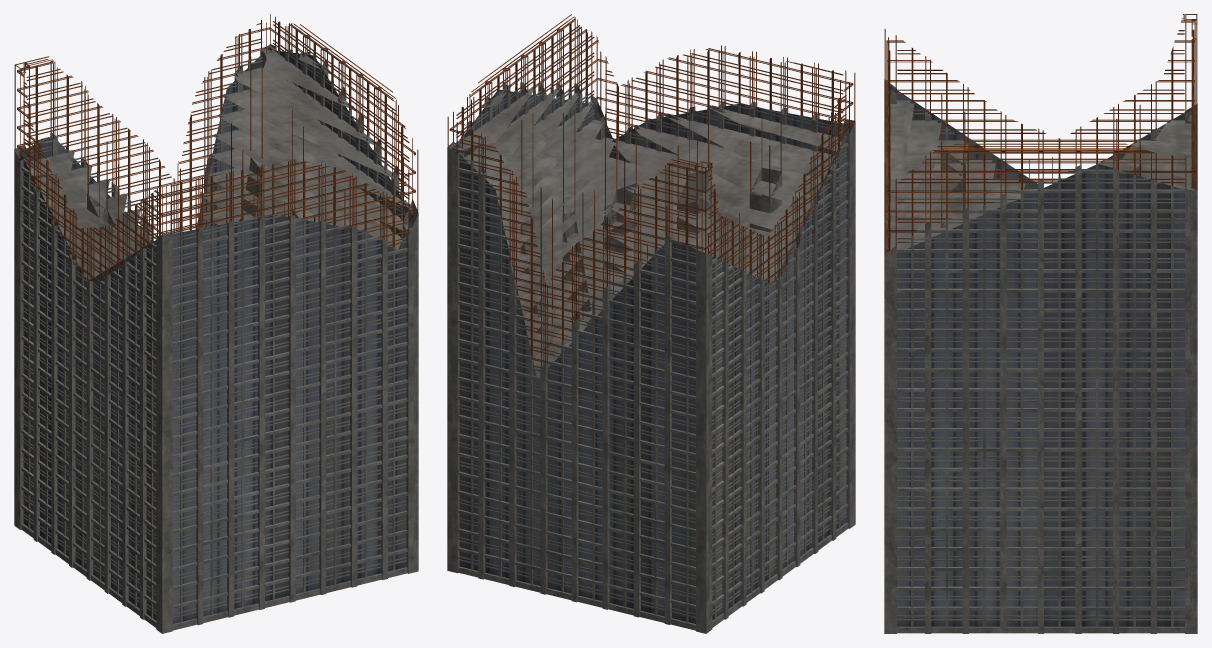
File: building-01.glb
3 renders of one model, left to right at view 1: azimuth 30°, elevation 25°; view 2: azimuth 150°, elevation 25°; view 3: azimuth 270°, elevation 25°, orthographic. The views are drawn at different scales.
Visible parts, largest first — view 1: Building 01; view 2: Building 01; view 3: Building 01.
Boxes of the visible parts, x1,y1,x2,y2 form: Building 01: (14,14,418,633); Building 01: (447,14,855,633); Building 01: (884,14,1197,633).
Size of the model in its own units: 21 by 36.1 by 21.
Materials: 3 (3 with a texture image).
